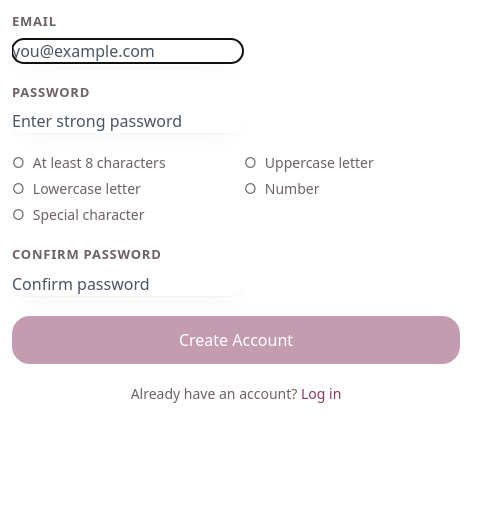
Test: RegistrationForm › registers through the backend API client and shows success
Type "shopper@example.com" into the field labelled "Email".
click(128, 51); type("shopper@example.com")  # box [12, 39, 243, 63]
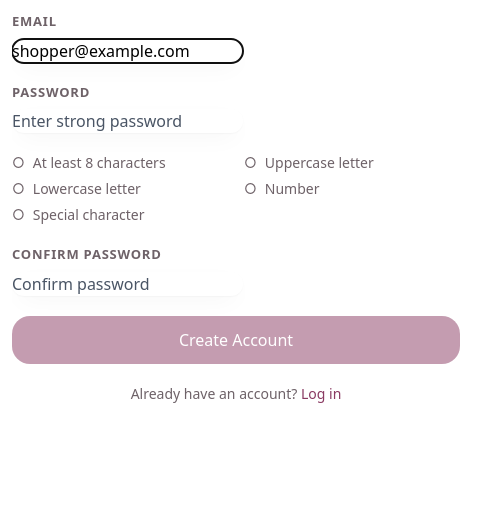
Type "ShopperPassword2026!" into the password field labelled "Password".
click(128, 121); type("ShopperPassword2026!")  # box [12, 109, 243, 133]
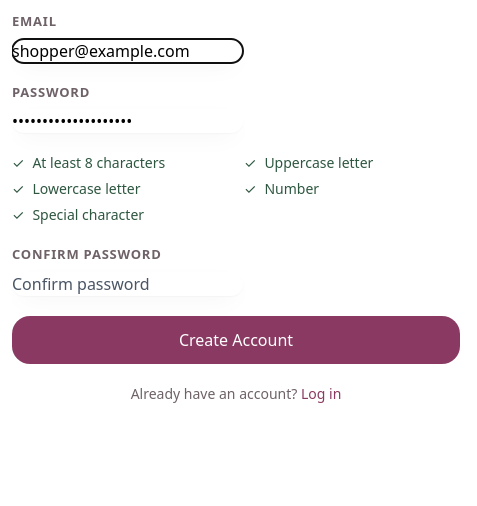
Type "ShopperPassword2026!" into the password field labelled "Confirm Password".
click(128, 284); type("ShopperPassword2026!")  # box [12, 272, 243, 296]
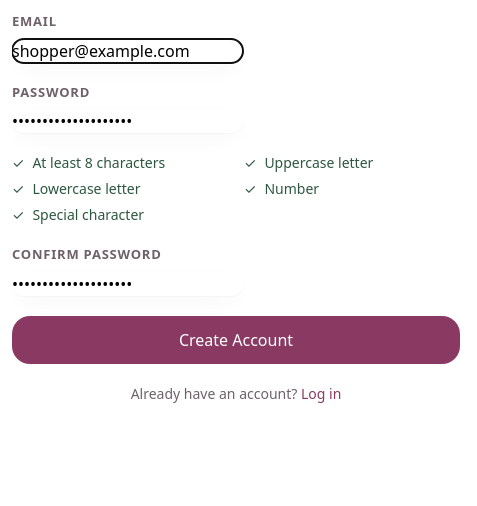
Submit the form named "Create Account"
Wait 2000 ms
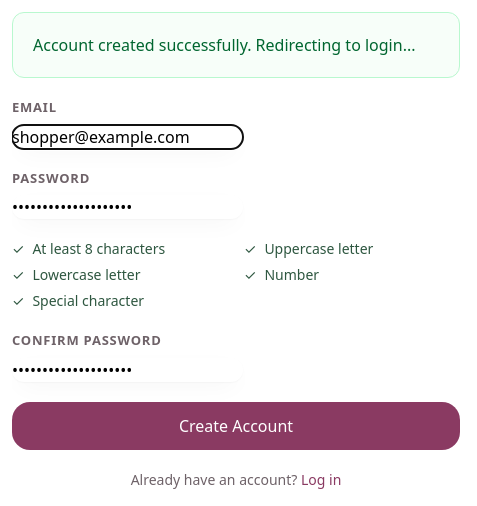
Now the text "Account created successfully. Redirecting to login..." is shown, box [12, 12, 460, 78]
